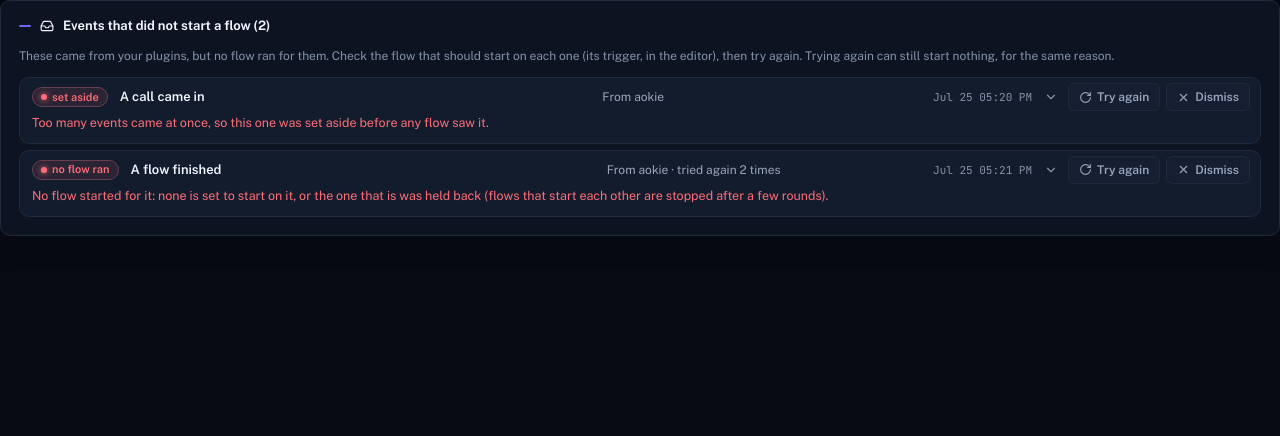
Test case: DeadLetters › says which of the two ways an event was lost, in plain words, the codes kept for its details
The image size is (1280, 436).
Click the button with class "run-head" that starts with "no flow ran".
click(75, 170)  # box [20, 151, 1062, 189]
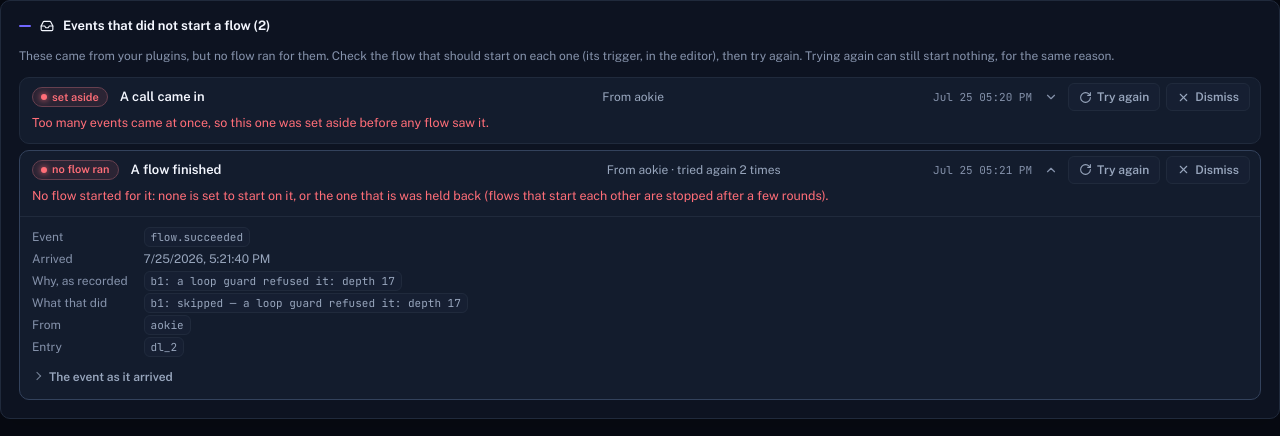
Now the text "flow.succeeded" is shown, box [144, 227, 250, 247]
Now the text "a loop guard refused it: depth 17" is shown, box [151, 274, 395, 288]
